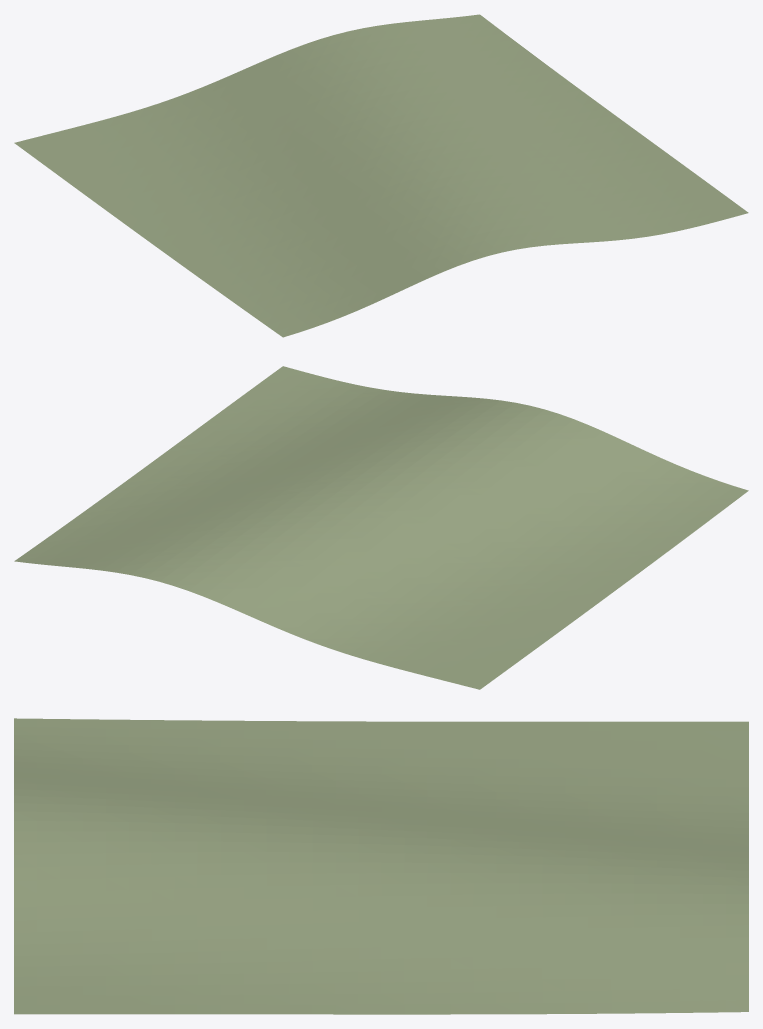
Rendered from desert-2-4.glb.
3 views of the same model, one above another, from view 1: azimuth 30°, elevation 25°; view 2: azimuth 150°, elevation 25°; view 3: azimuth 270°, elevation 25° (orthographic). The views are drawn at different scales.
Parts seen in each view (by area): view 1: desert-2-4; view 2: desert-2-4; view 3: desert-2-4.
Part boxes in pixels (x1,y1,x2,y2): desert-2-4: [14, 14, 748, 337]; desert-2-4: [14, 366, 748, 689]; desert-2-4: [14, 718, 748, 1014].
Bounding box in the file's own units: 512 × 35.73 × 512.
